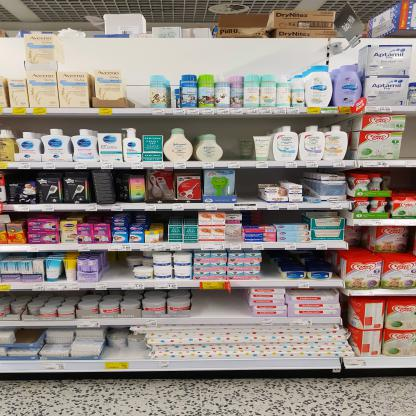Void: (190, 290, 242, 315), (123, 72, 149, 109), (221, 120, 242, 158), (235, 167, 254, 200), (106, 253, 128, 280), (391, 170, 414, 194), (246, 213, 294, 221), (265, 252, 277, 277)
